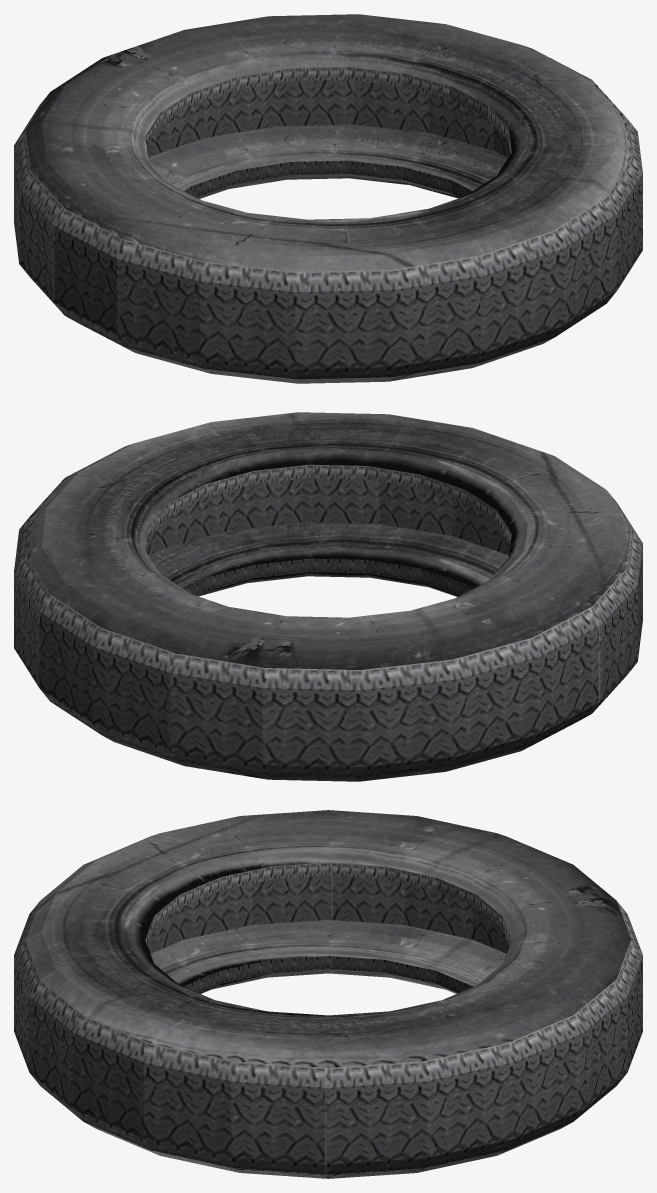
Rendered from tire.DAE.
3 renders of one model, top to bottom at view 1: azimuth 30°, elevation 25°; view 2: azimuth 150°, elevation 25°; view 3: azimuth 270°, elevation 25°, orthographic.
Parts seen in each view (by area): view 1: Mesh_Object; view 2: Mesh_Object; view 3: Mesh_Object.
Boxes of the visible parts, box(x1,y1,x2,y2) form: Mesh_Object: box(14, 14, 642, 383); Mesh_Object: box(14, 412, 642, 781); Mesh_Object: box(14, 810, 642, 1178).
Size of the model in its own units: 1.2 by 0.2662 by 1.2.
